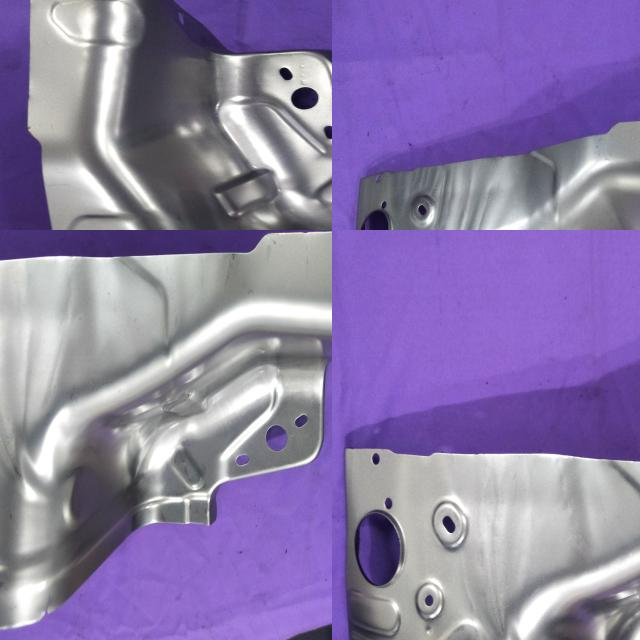Defect: (40, 586, 56, 620)
Healthy: (24, 0, 332, 230), (343, 112, 640, 230)
